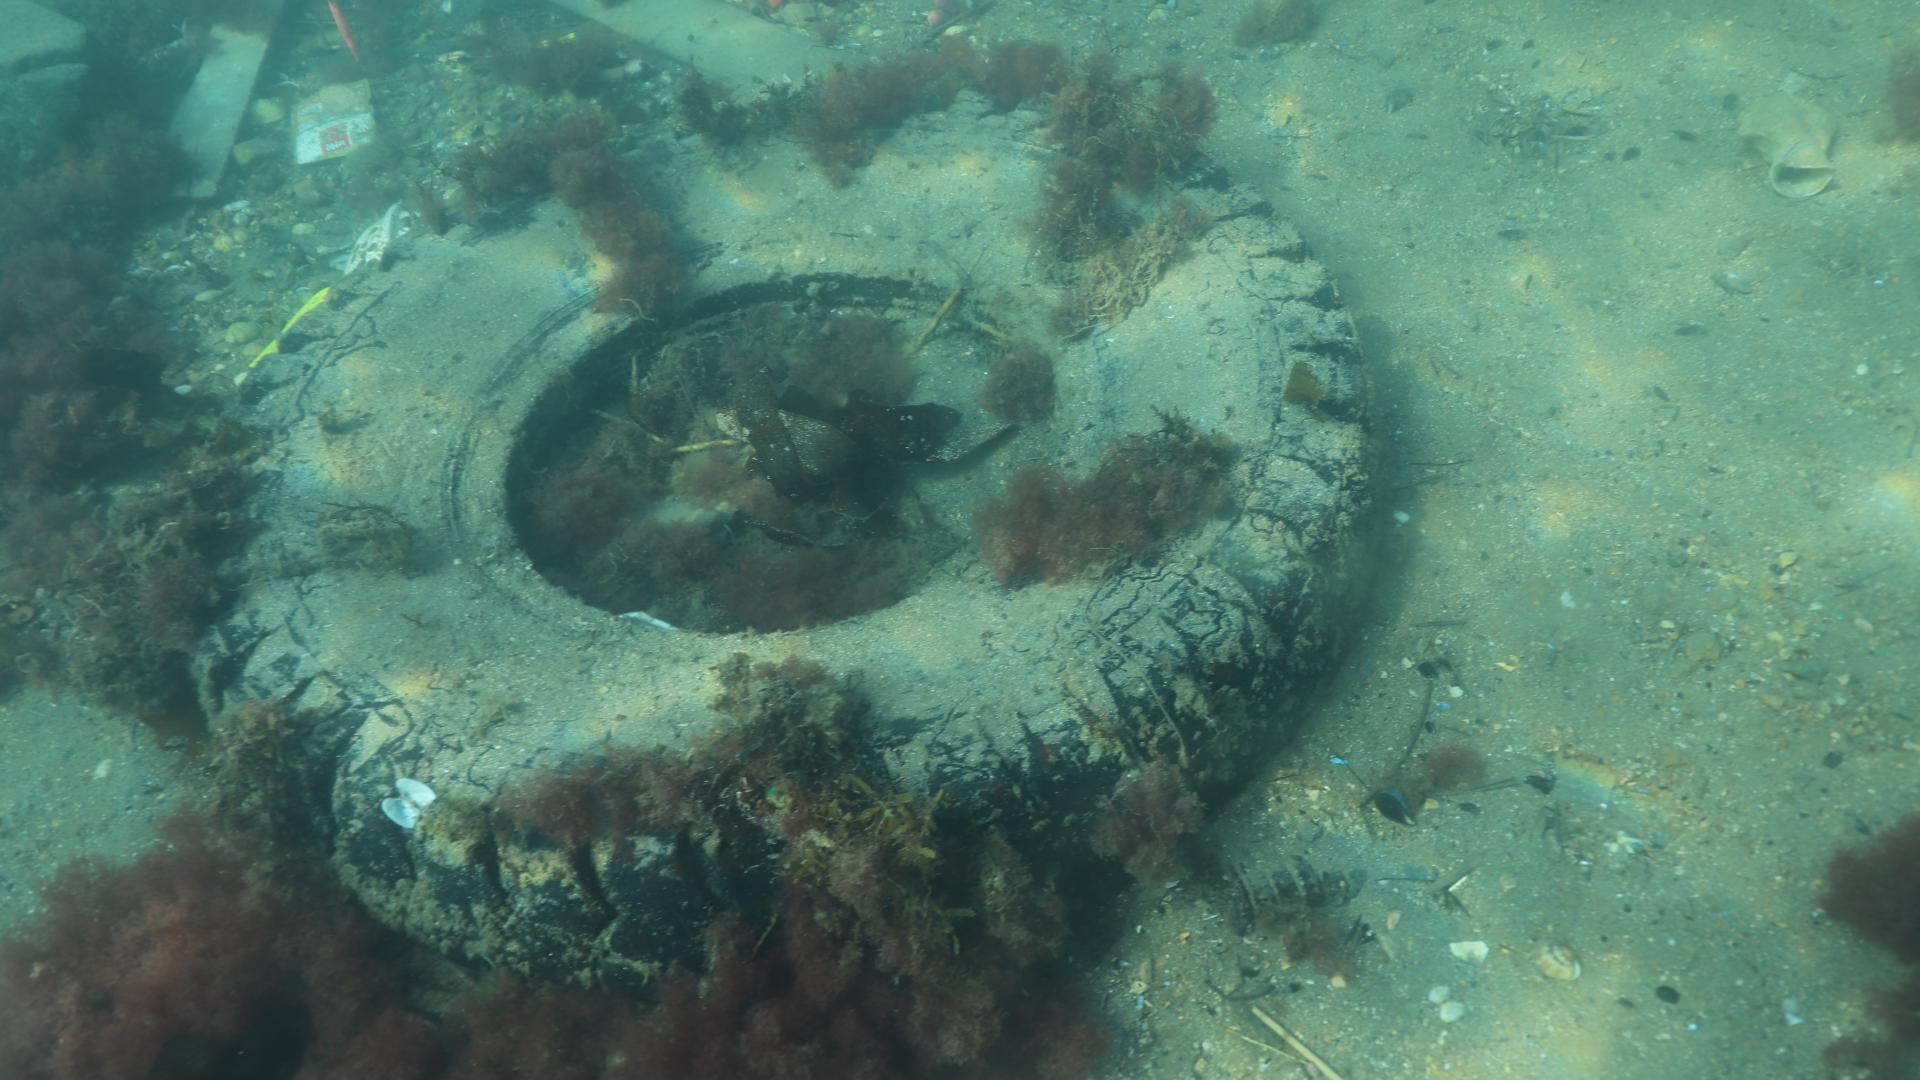tire: (189, 84, 1371, 1002)
